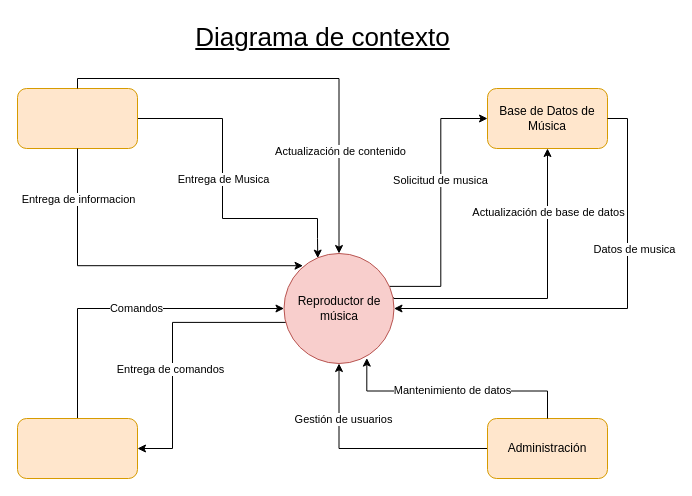
The diagram is 692 pixels wide and 496 high, and some of its shapes have lost their labels. The centre of each missing label's shape, as x and y in pixels:
"Proeevedor" goes at point 77,118.
"Usuario" goes at point 77,448.
